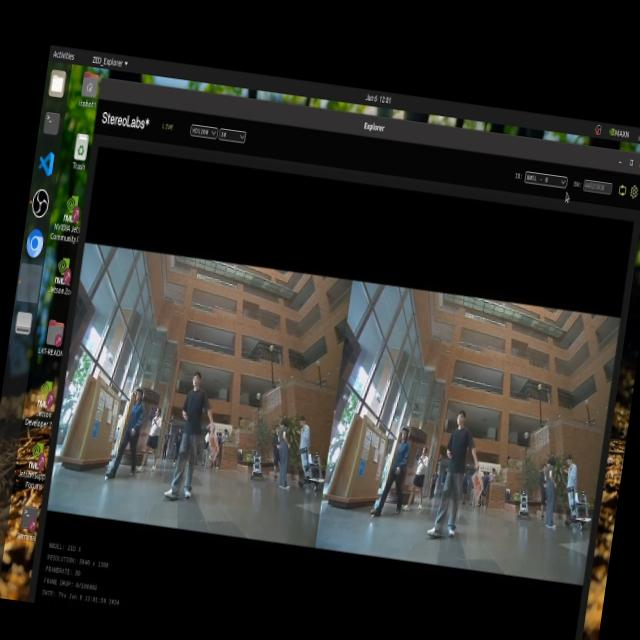red: (470, 473, 491, 498), (207, 436, 227, 460)
